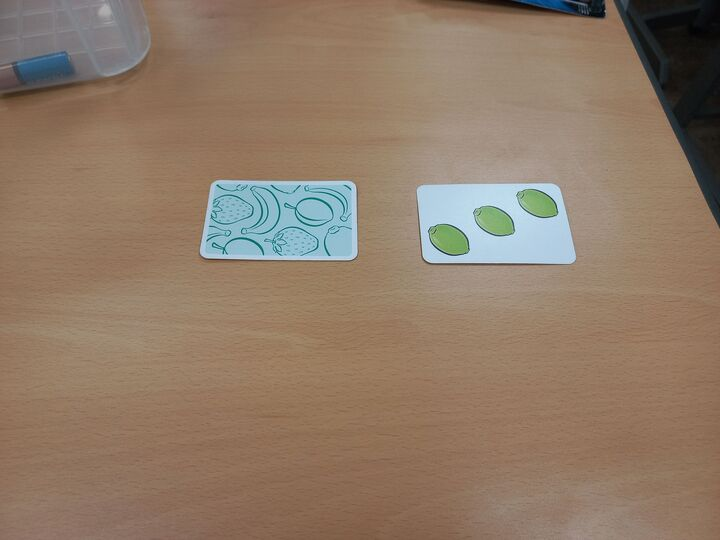lime3: (415, 182, 580, 266)
